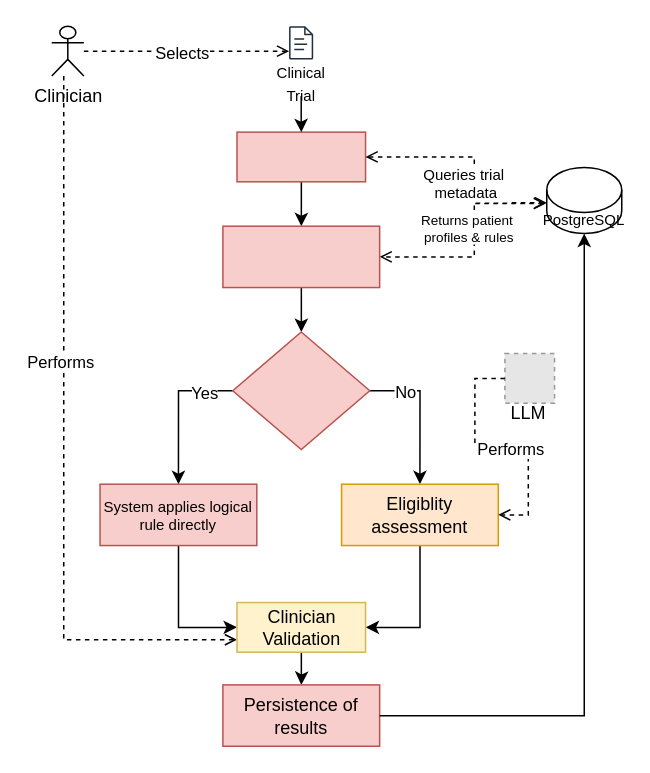
Some shapes in this 650 by 773 pixel diagram are drawn without their labels. Grey dashed boxes stand in for pictures. Here are the shapes that lost their labels. From the top down, the centre of each, then its label:
the point at 301,156: Retrieves trial's pathology group
the point at 300,256: Retrieves subset of patient profiles and logical rules
the point at 300,390: Field in patient schema?
